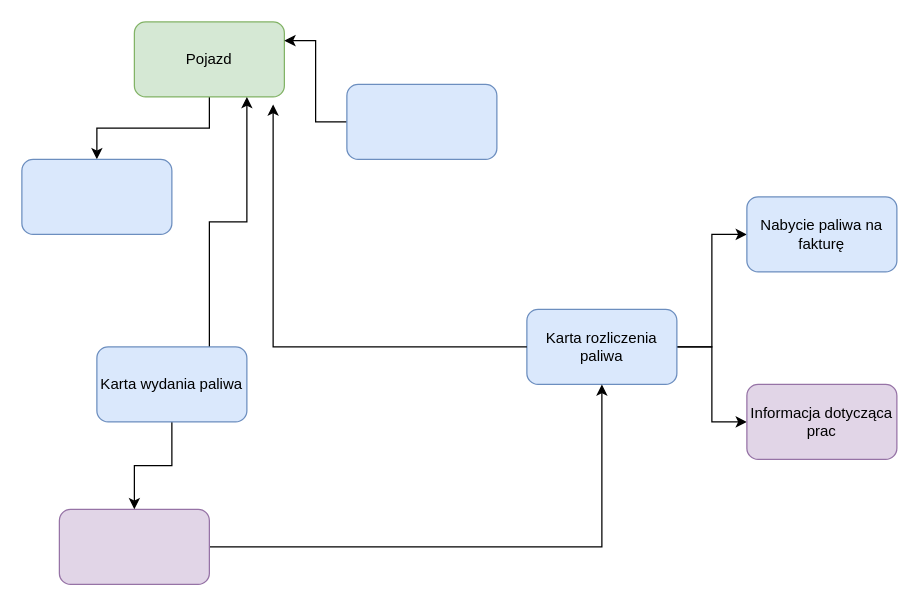
The diagram is 919 pixels wide and 606 high, and some of its shapes have lost their labels. Here are the shapes that lost their labels. From the top down, the centre of each, then its label:
At (x=421, y=121): "Stawka".
At (x=96, y=196): "Norma paliwa".
At (x=133, y=546): "Informacja dotycząca wydania paliwa".
